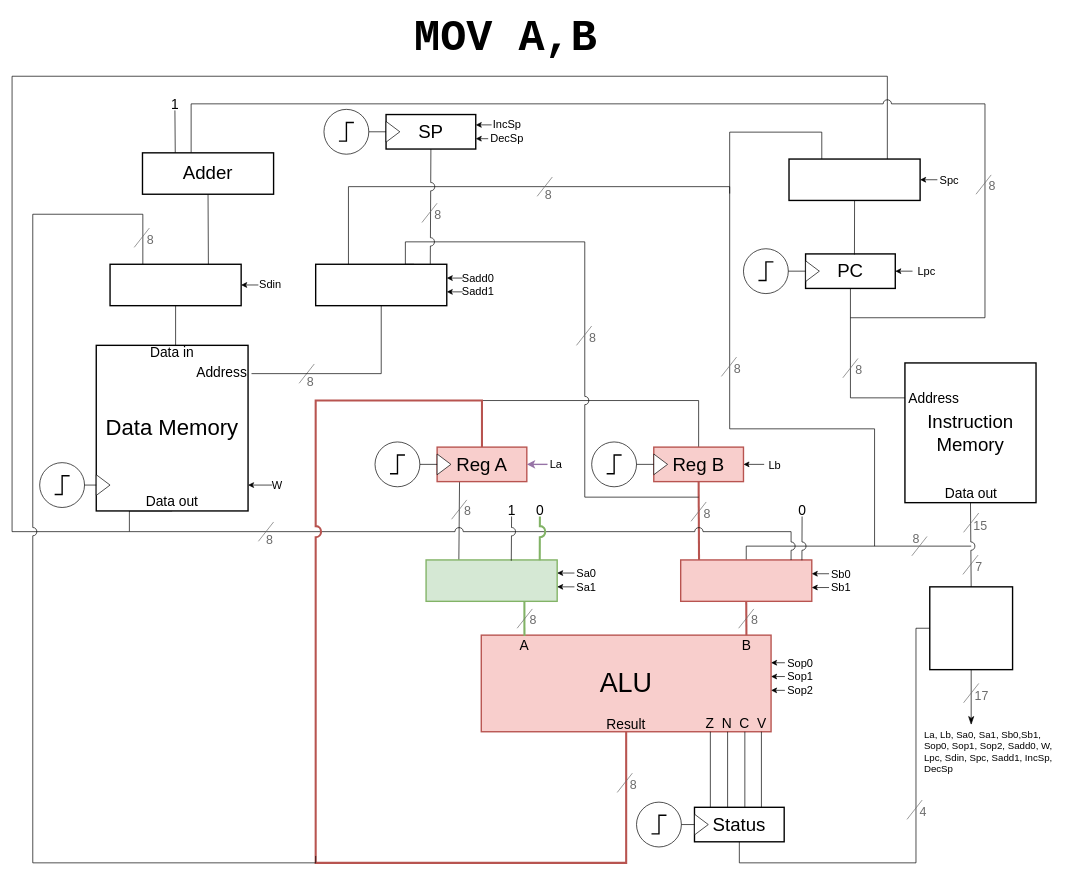
This 1070x876 diagram has some shape labels left out. Each missing label, with the centre of its shape:
"Control Unit" goes at [971,628].
"Mux A" goes at [491,580].
"Mux Address" goes at [381,284].
"Mux B" goes at [746,580].
"Mux DataIn" goes at [175,284].
"Mux PC" goes at [854,179].
